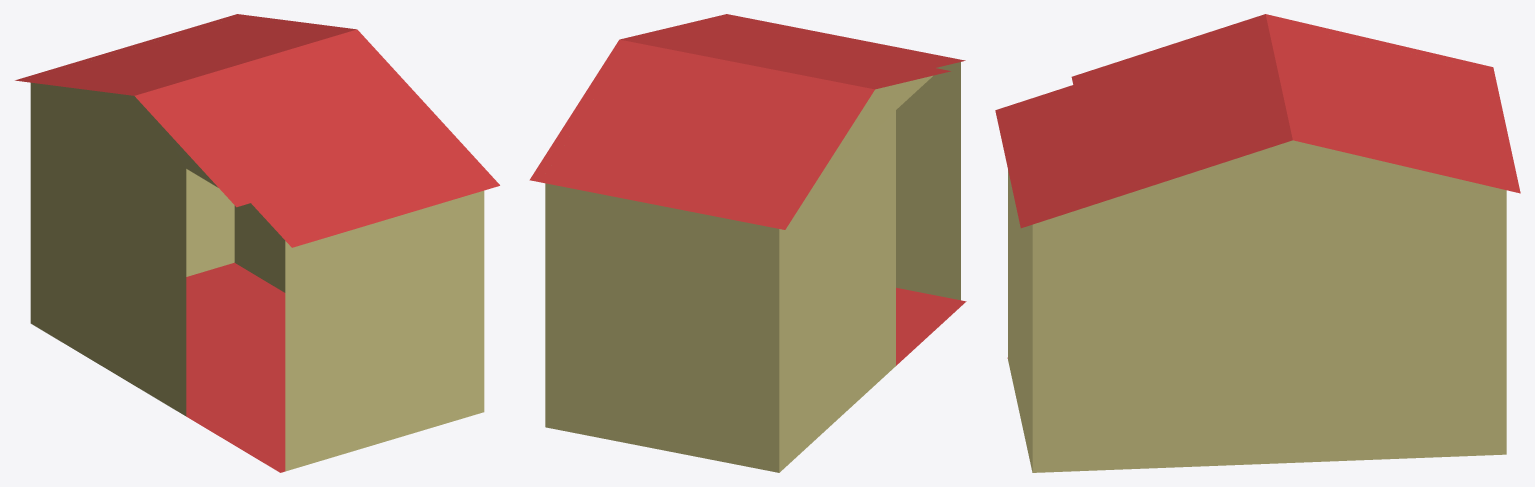
3 views of the same model, side by side, from view 1: azimuth 30°, elevation 25°; view 2: azimuth 150°, elevation 25°; view 3: azimuth 270°, elevation 25° (orthographic). The views are drawn at different scales.
Bounding box in the file's own units: 6.68 × 10.18 × 7.01.
